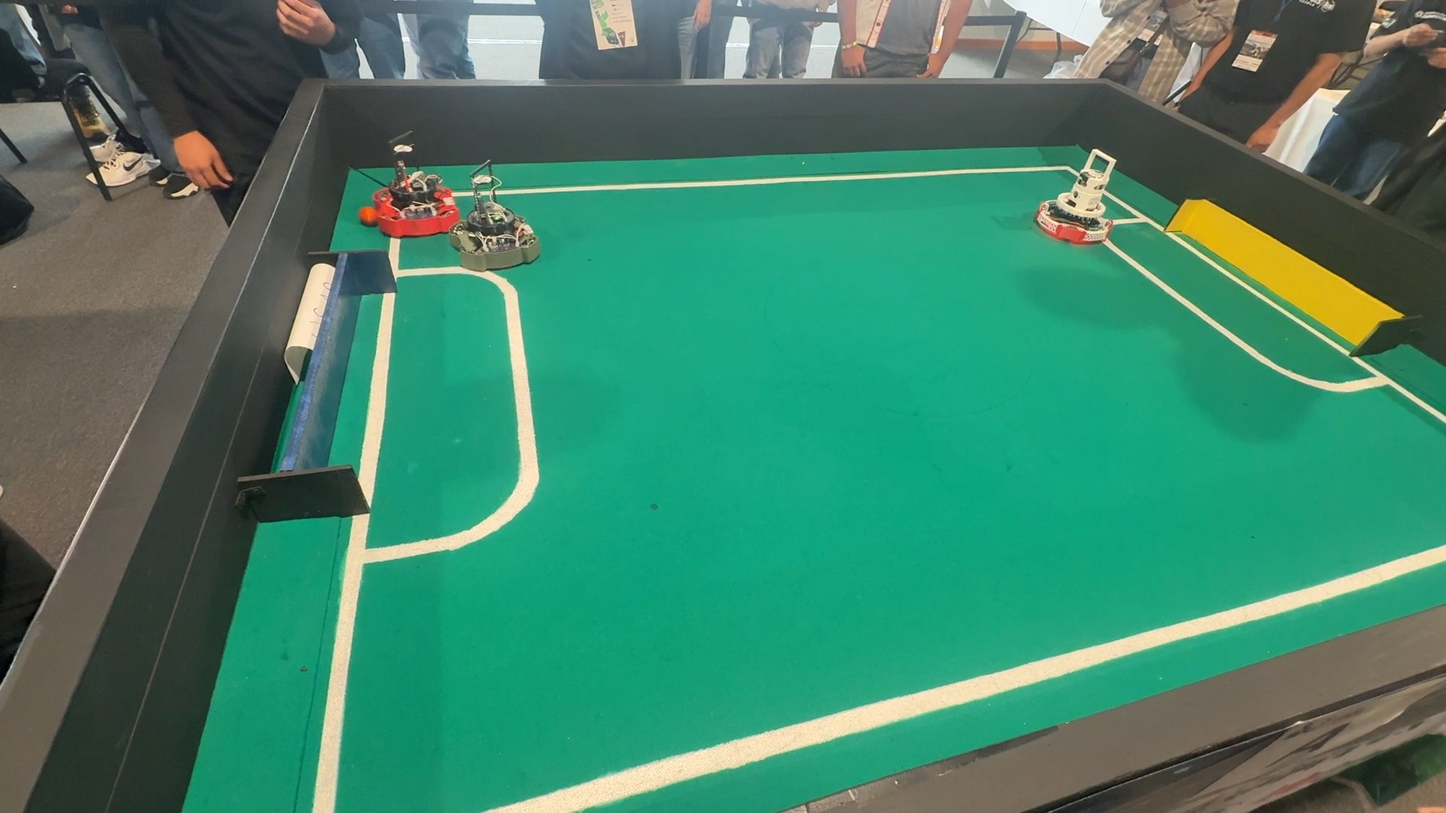Robot: (1025, 144, 1148, 253), (369, 150, 466, 238), (448, 186, 543, 267)
